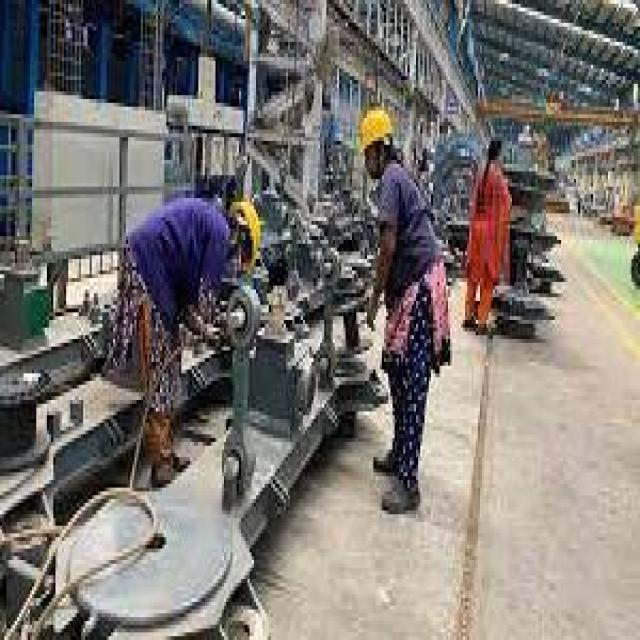Safety-Helmet: (226, 190, 269, 270), (352, 95, 399, 164)
